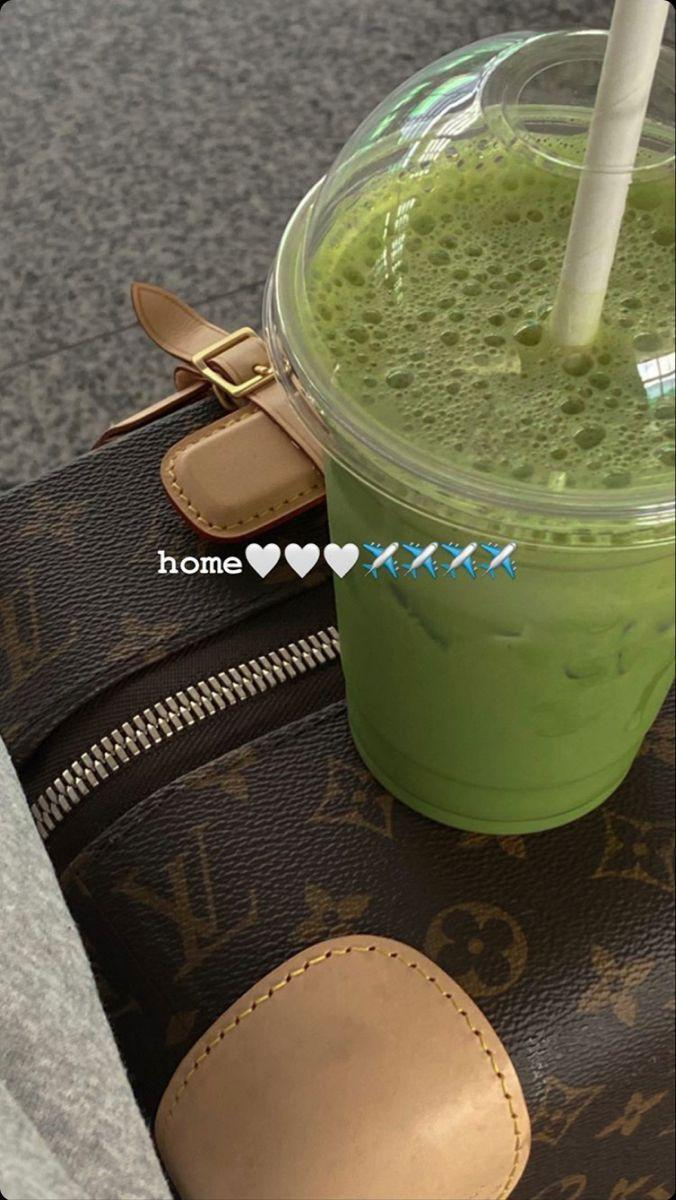cup-disposable: (259, 18, 675, 850)
